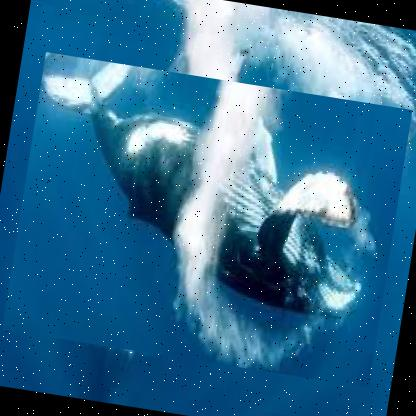blue_whale: (1, 52, 413, 389)
